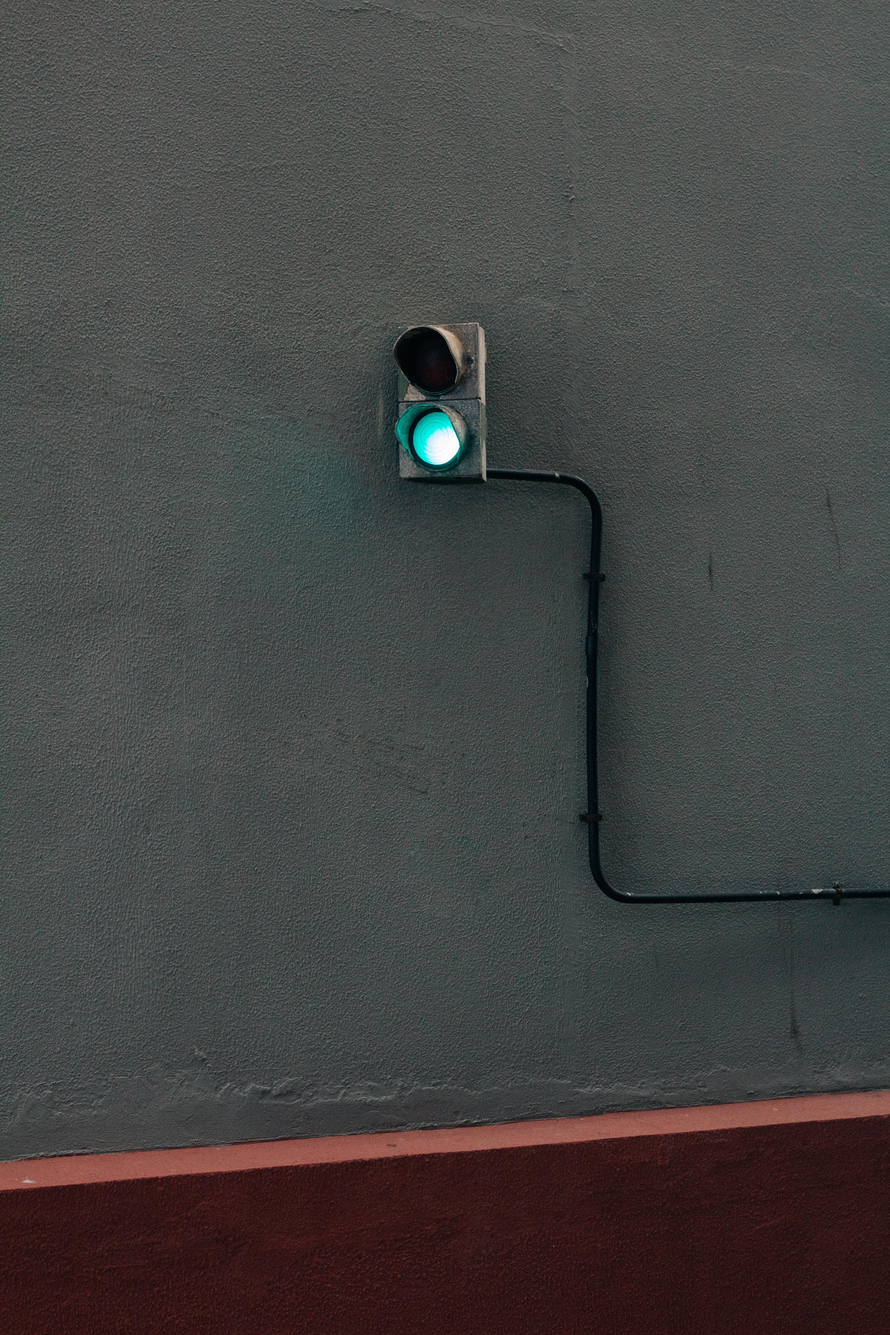green: (343, 314, 533, 487)
